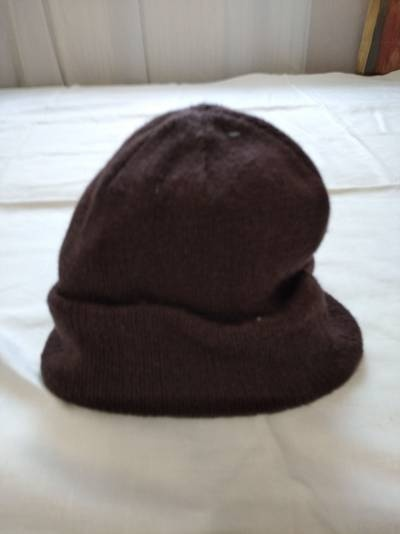Hat: (33, 108, 364, 429)
